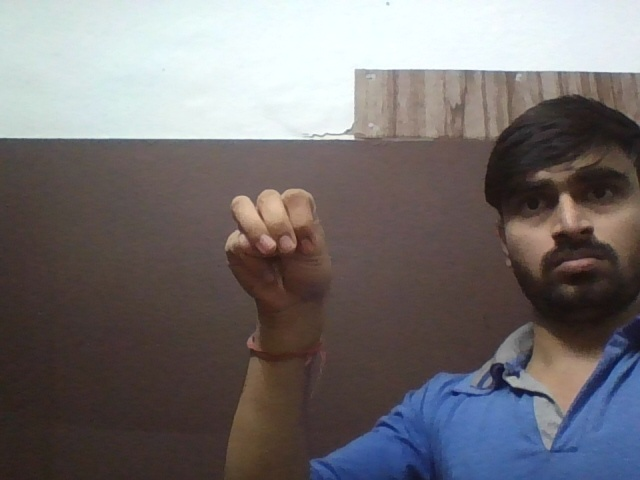M: (204, 187, 356, 316)
